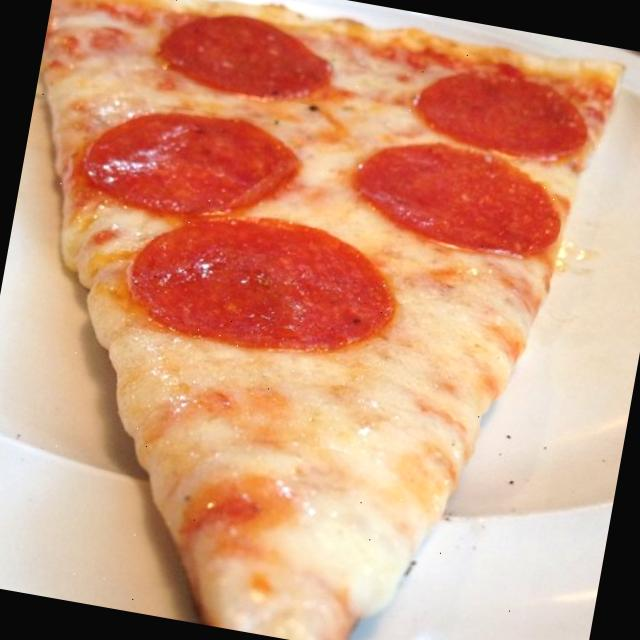pepperoni: (123, 198, 407, 372), (74, 91, 305, 235), (338, 126, 575, 266), (402, 50, 600, 168), (152, 2, 338, 108)
pizza: (39, 0, 621, 640)
